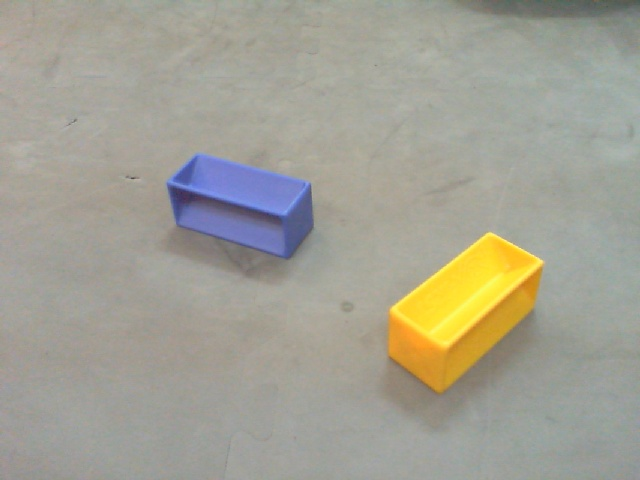BlueSample: (160, 152, 315, 259)
YellowSample: (382, 231, 548, 394)
